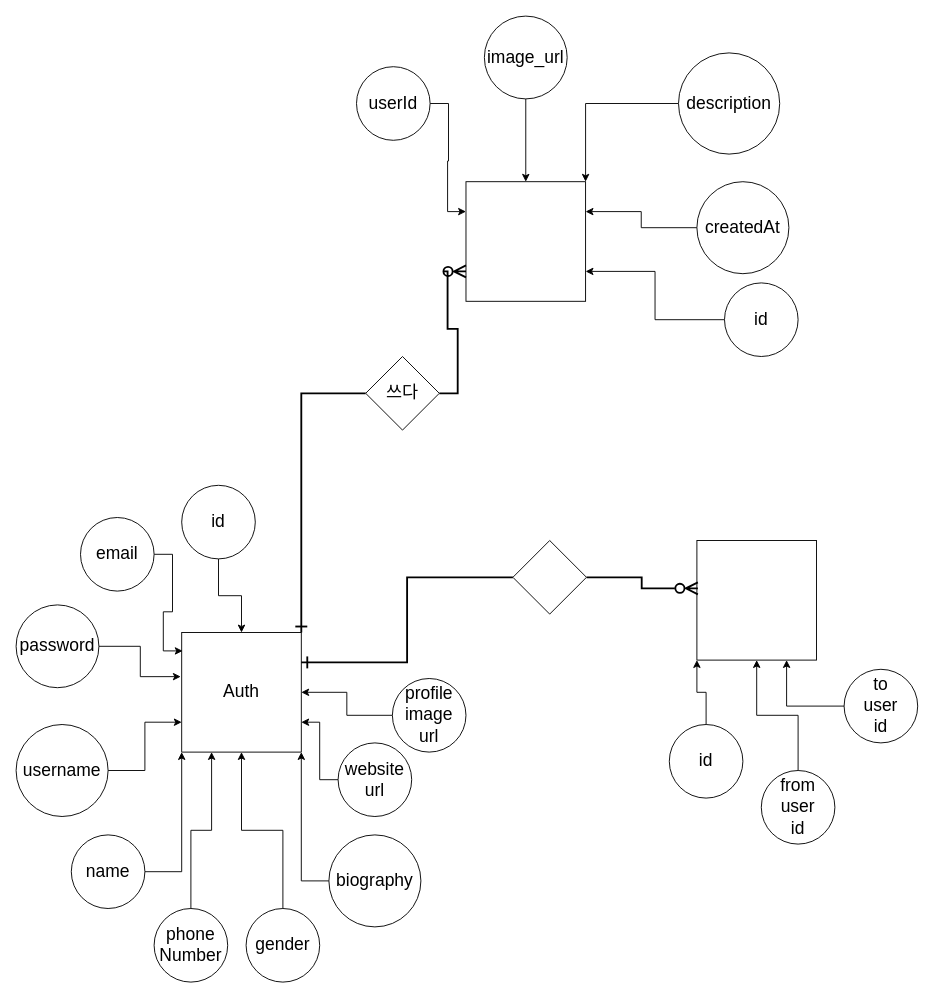
Image size: 934x998. Some labels were removed from this diagram. The centre of each missing label's shape, as x and y in pixels:
"Feed" goes at [525,241].
"Friendships" goes at [756,600].
"소속" goes at [549,577].
